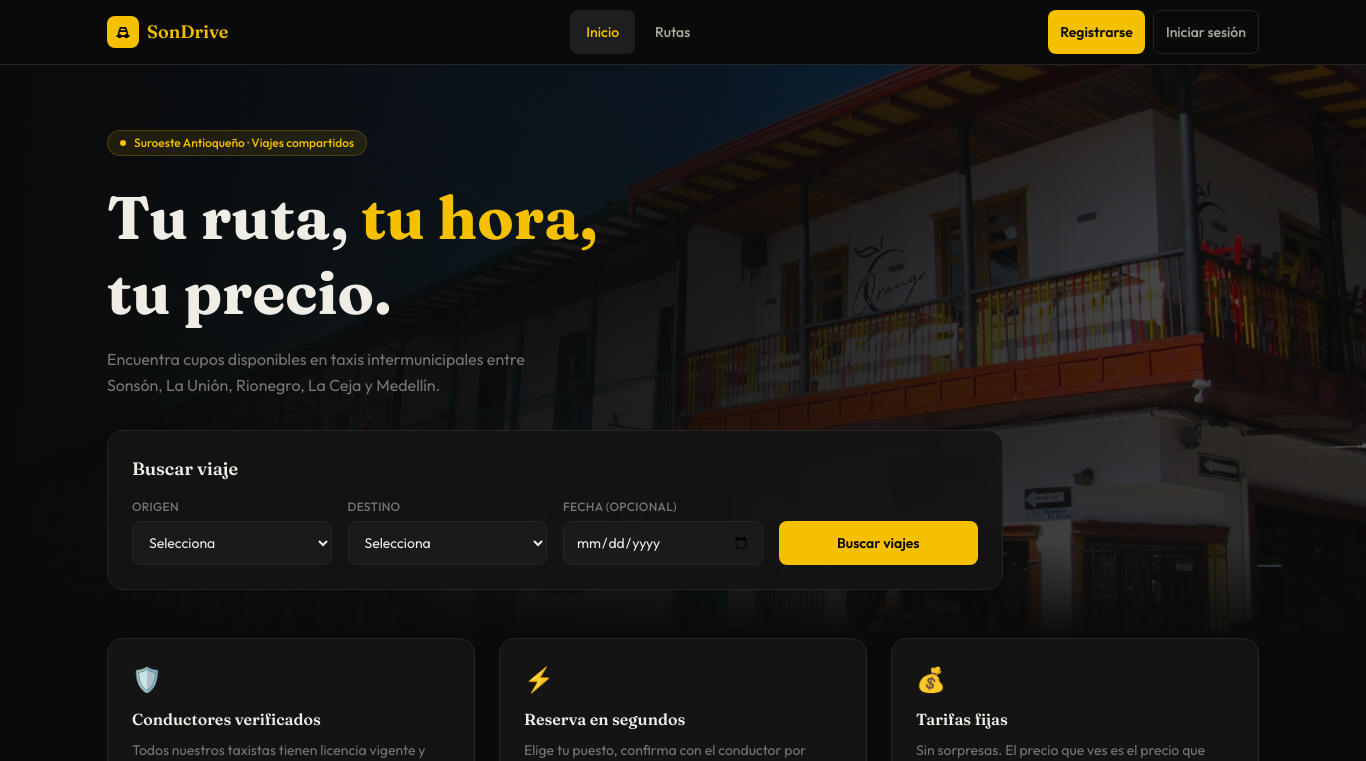
Test: Búsqueda y detalle de viajes disponibles › ordena por salida más temprana, abre el detalle y prepara la reserva por WhatsApp
The image size is (1366, 761).
Select "Medellín" in the dropdown labelled "Origen". click: (232, 543)
box: [132,521,332,565]
Select "Rionegro" in the dropdown labelled "Destino". click: (447, 543)
box: [348,521,547,565]
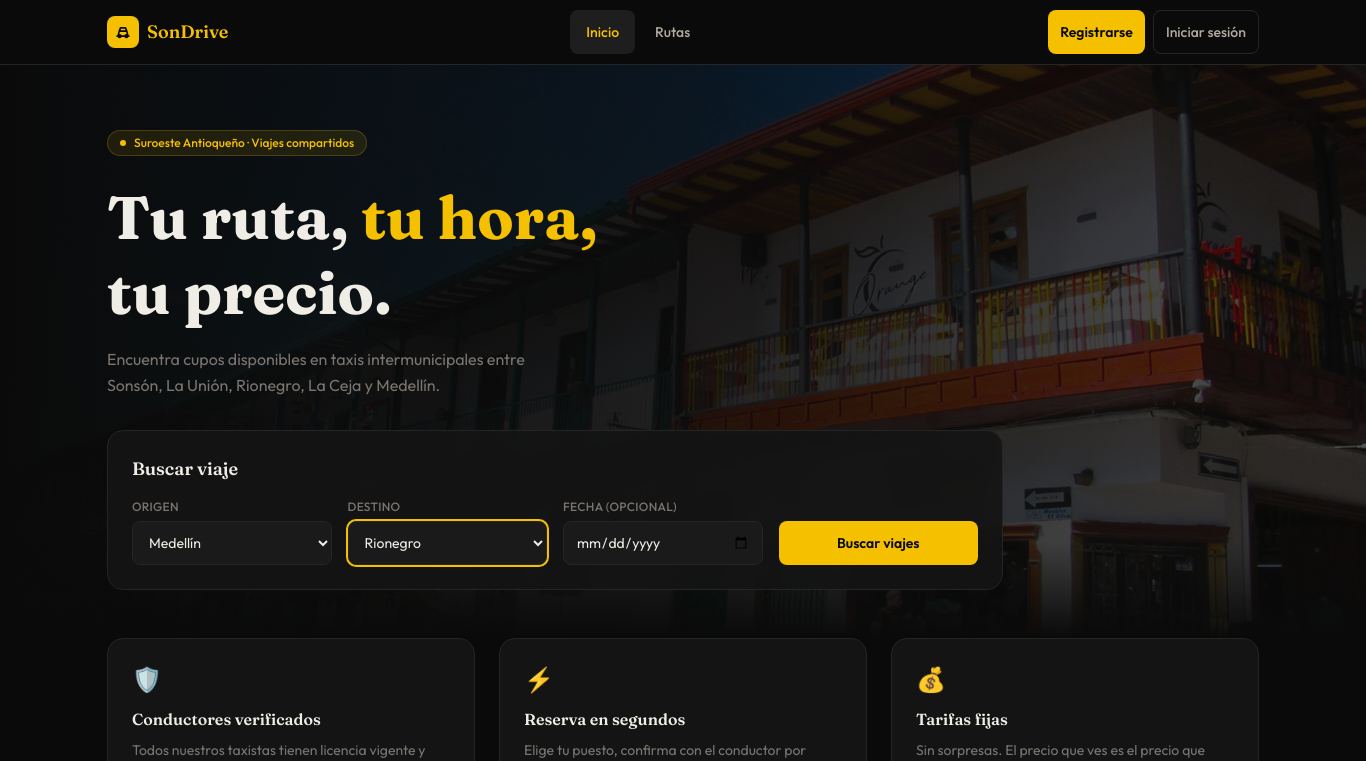
Click the button "Buscar viajes". click: click(878, 543)
box: [778,521,978,565]
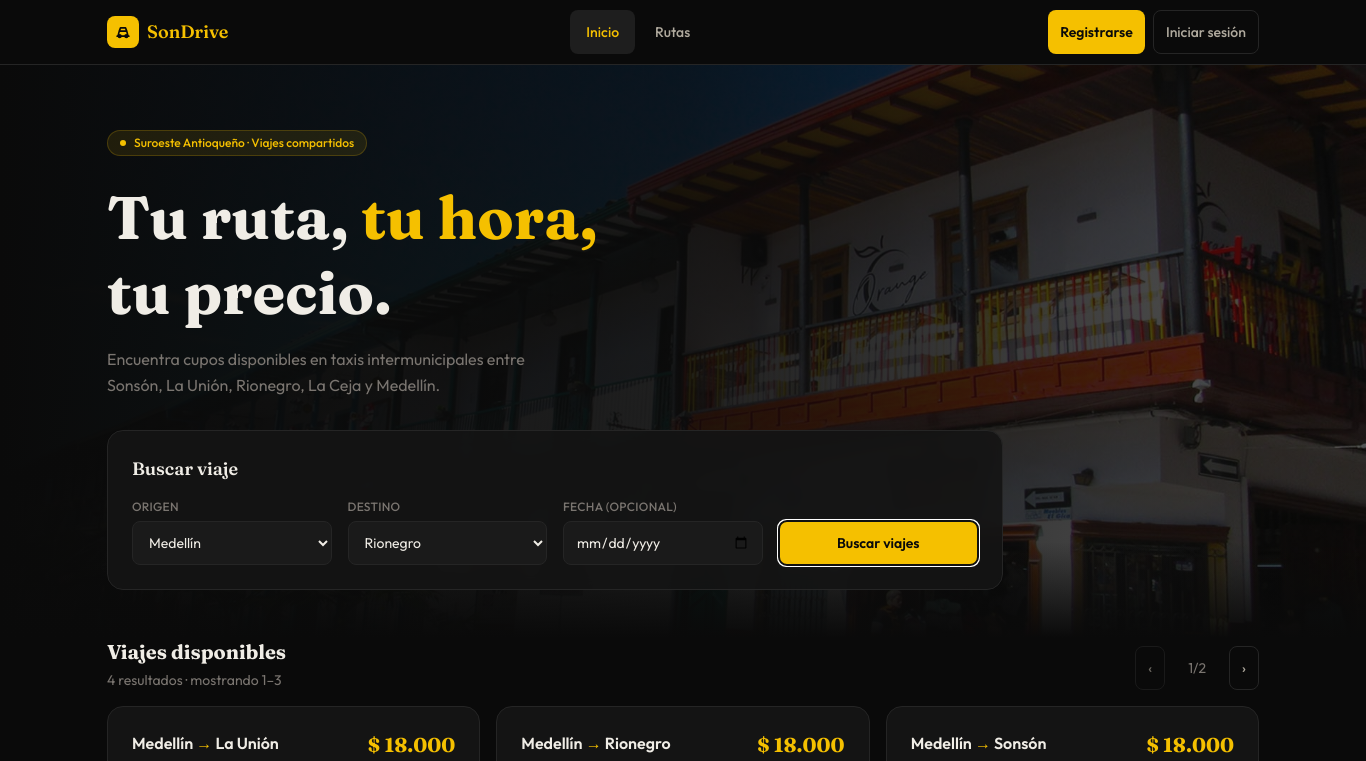
Result: the heading "Viajes disponibles" is shown at [107,638,286,666]
Result: the text "4 resultados · mostrando 1–3" is shown at [107,670,286,690]
Click the button named "Página siguiente". click: click(1244, 668)
box: [1229,646,1259,690]
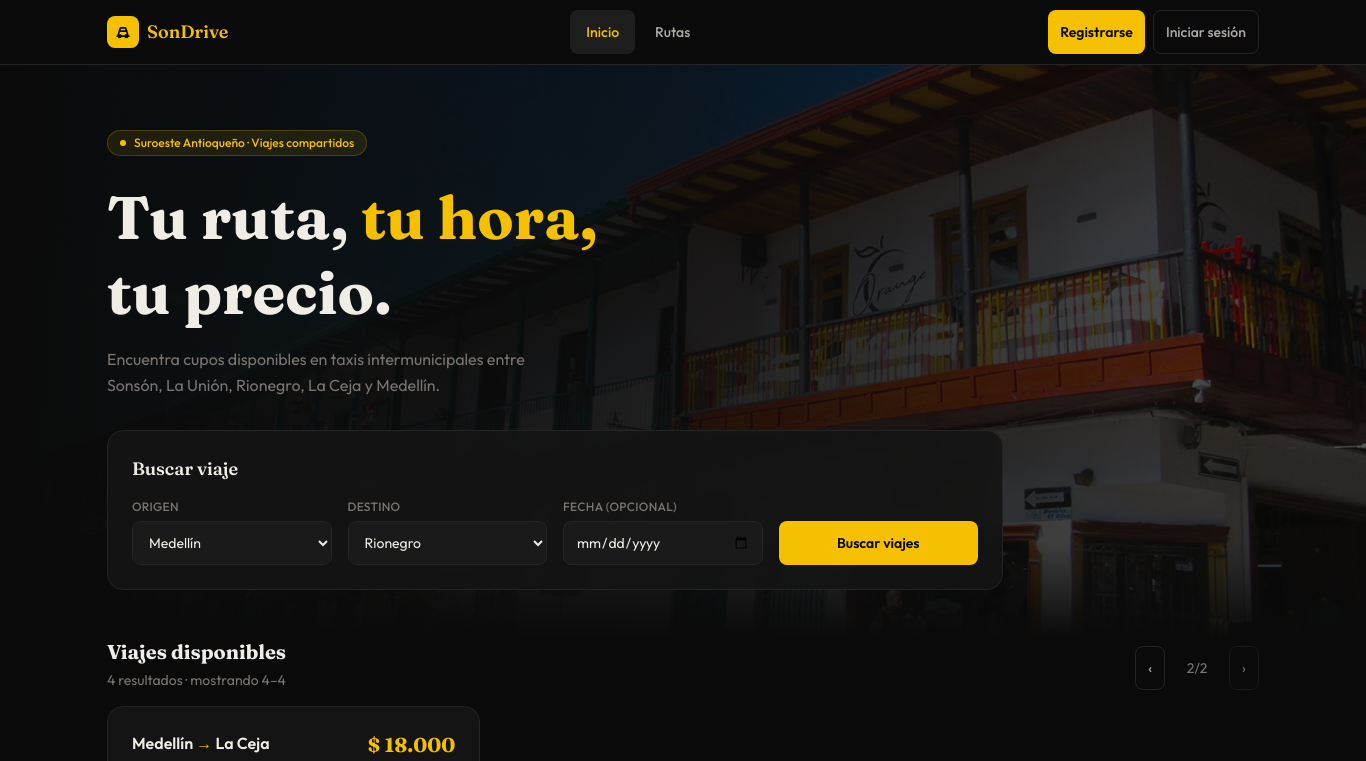
Result: the text "2/2" is shown at [1187,659,1207,677]
Result: the text "4 resultados · mostrando 4–4" is shown at [107,670,286,690]
Result: the list item shows "La Ceja" at [215,733,270,753]
Click the button named "Página anterior". click: click(1150, 668)
box: [1135,646,1165,690]
(page scrolled)
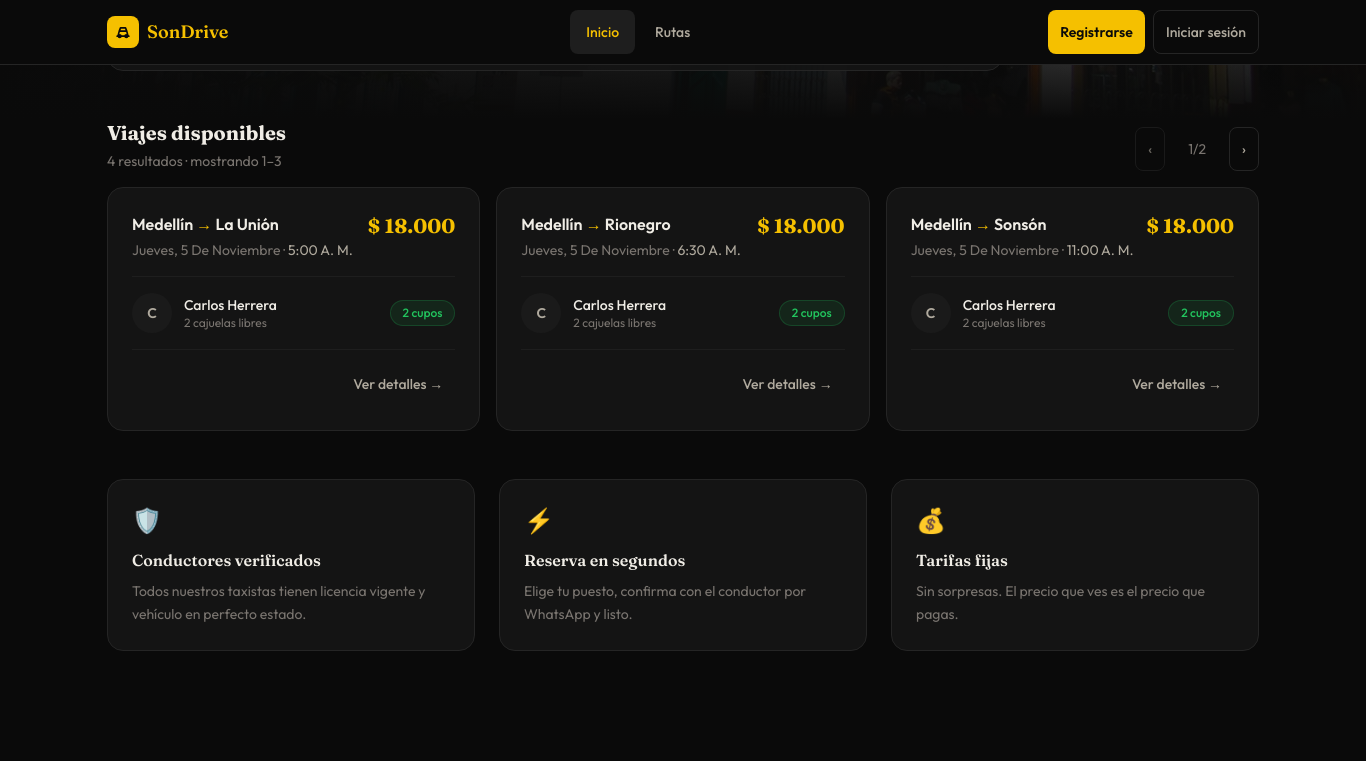
Click the button "Ver detalles →" below "6:30 a. m.". click: click(788, 384)
box: [731,362,845,406]
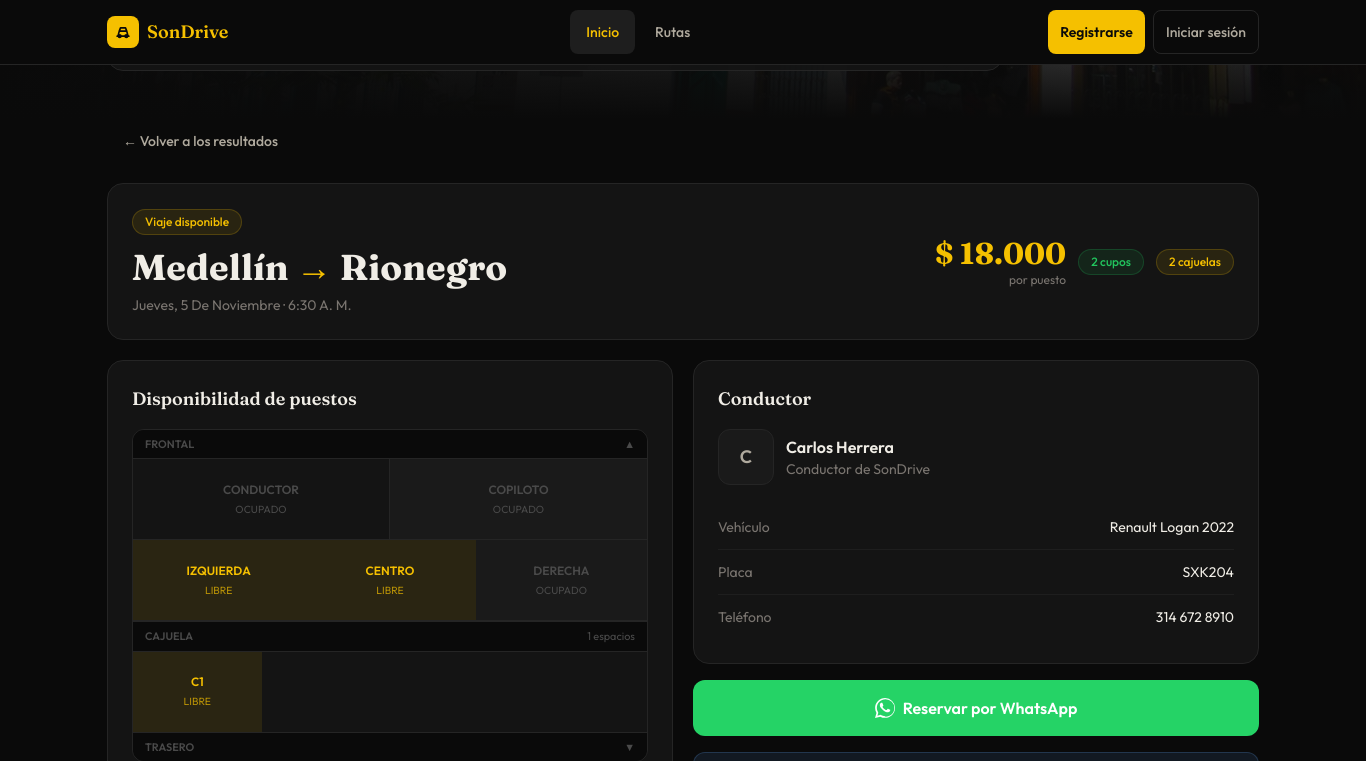
Result: the heading "Medellín → Rionegro" is shown at [132,247,507,287]
Result: the heading "Disponibilidad de puestos" is shown at [132,387,357,410]
Result: the element named "Copiloto, ocupado" is shown at [390,459,647,539]
Click the button "← Volver a los resultados". click: click(200, 141)
box: [107,119,294,163]
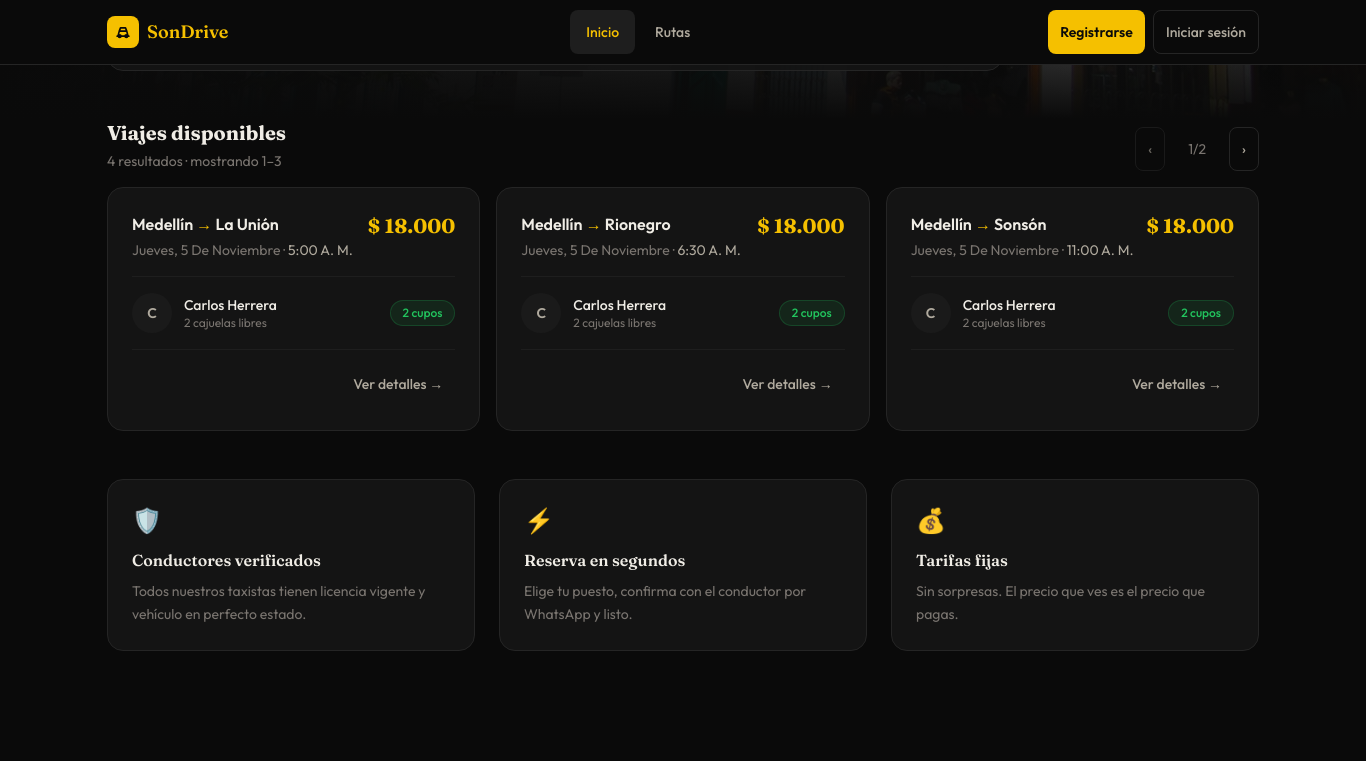
Result: the heading "Viajes disponibles" is shown at [107,119,286,147]
